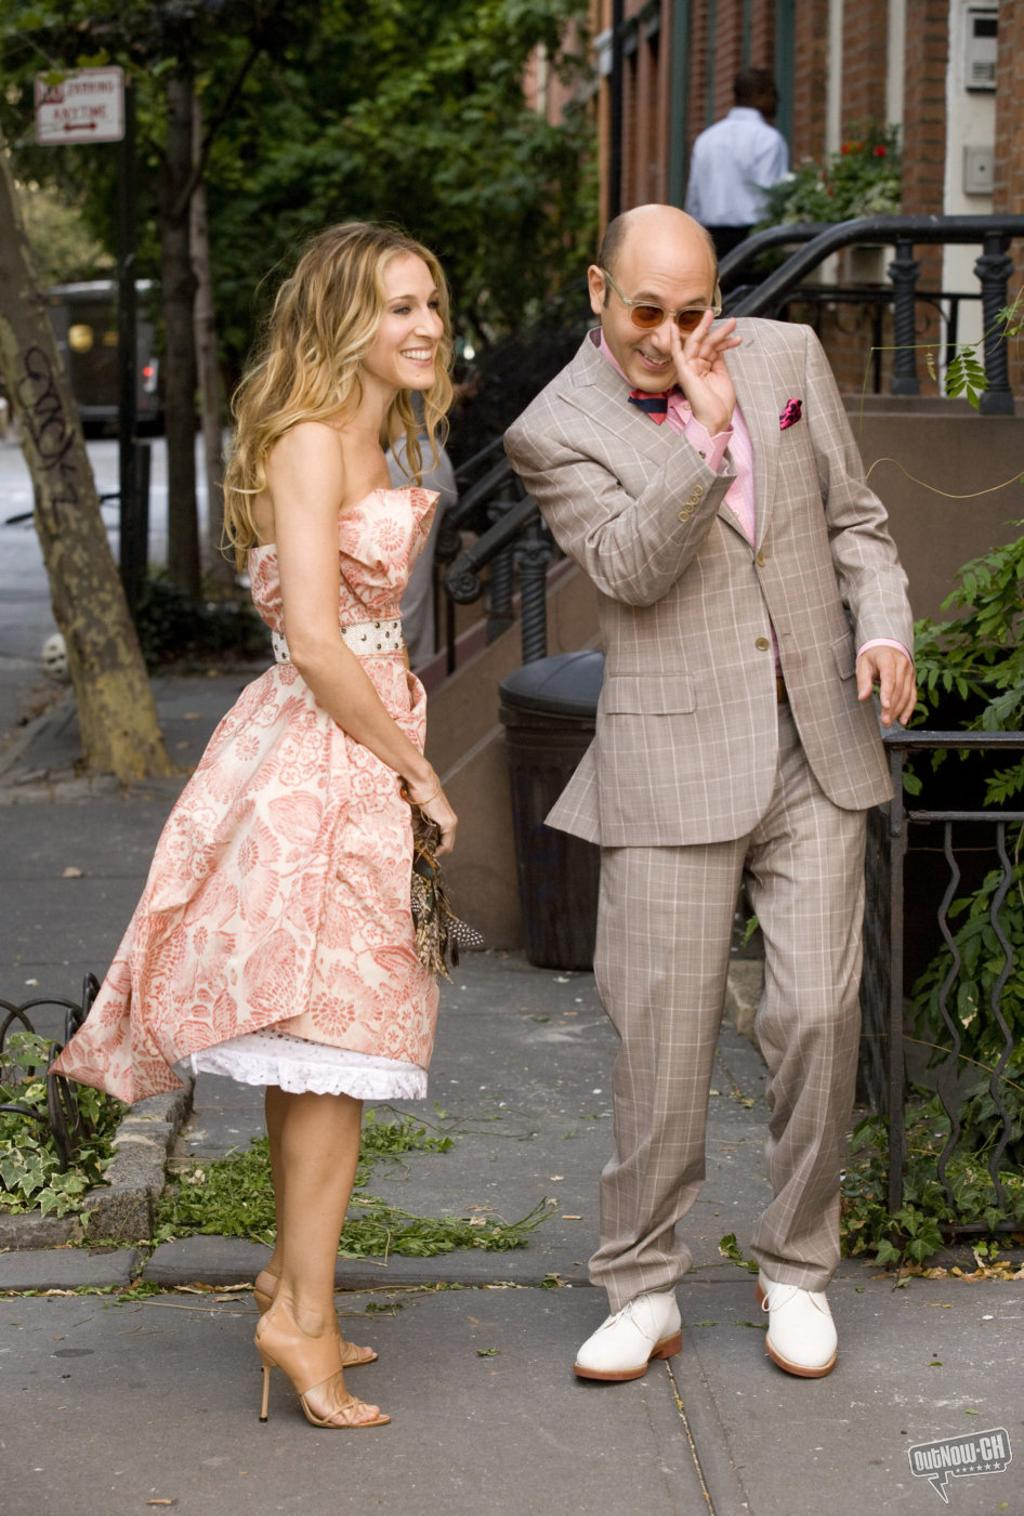face: (604, 240, 716, 391), (358, 249, 444, 391)
